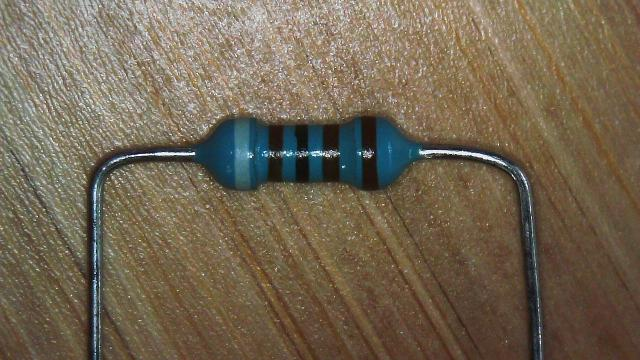black: (296, 125, 309, 182)
brown: (360, 115, 378, 190), (322, 124, 340, 182), (268, 125, 284, 182)
resistor: (190, 103, 426, 202)
white: (234, 119, 250, 186)
